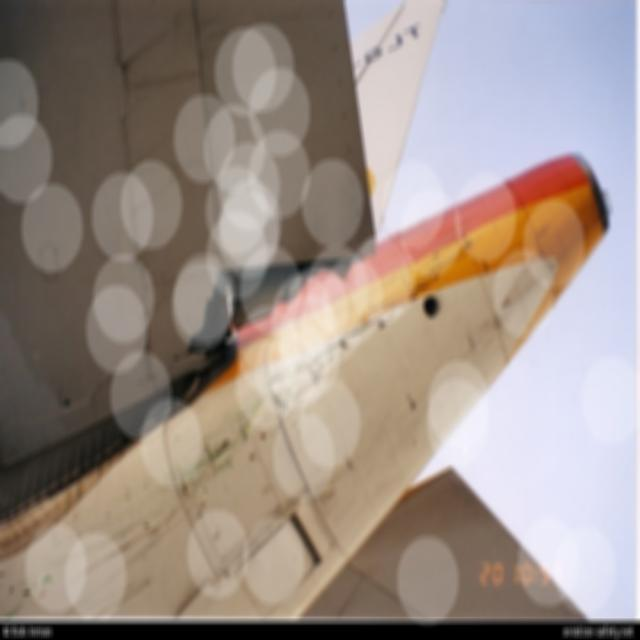crack: (173, 259, 347, 368)
